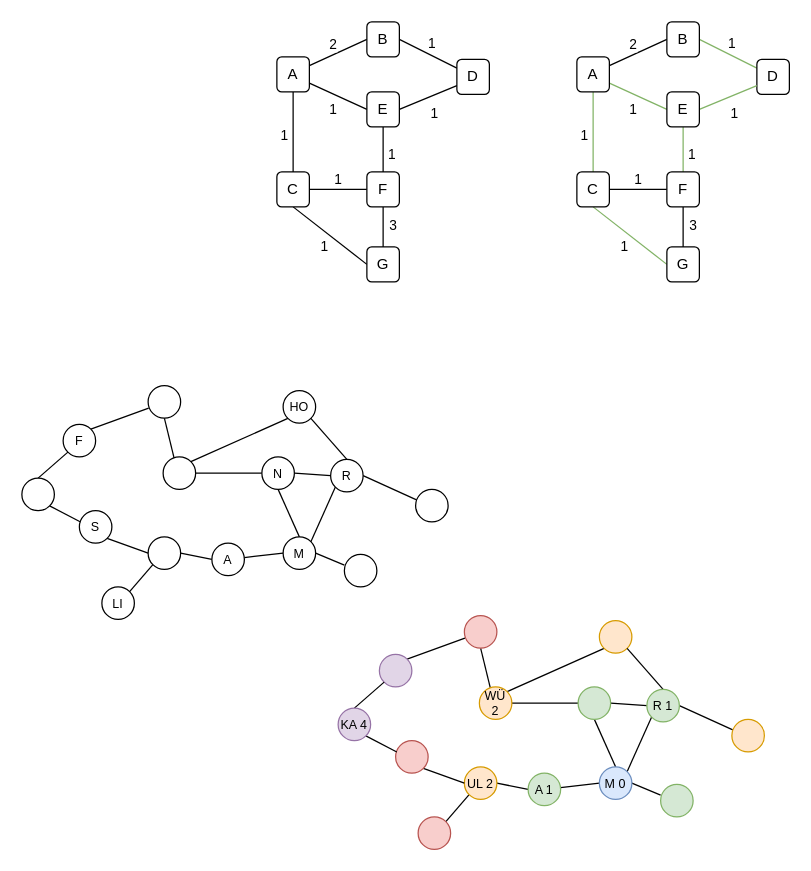
Some shapes in this 811 by 871 pixel diagram are drawn without their labels. Here are the shapes that lost their labels. From the top down, the centre of each, then its label:
point 164,401: FD
point 179,472: WÜ
point 37,494: KA
point 431,505: PA
point 164,552: UL
point 360,570: RO
point 480,631: FD 3
point 615,636: HO 2
point 395,670: F 4
point 594,702: N 1
point 747,735: PA 2
point 411,756: S 3
point 676,800: RO 1
point 434,832: LI 3
